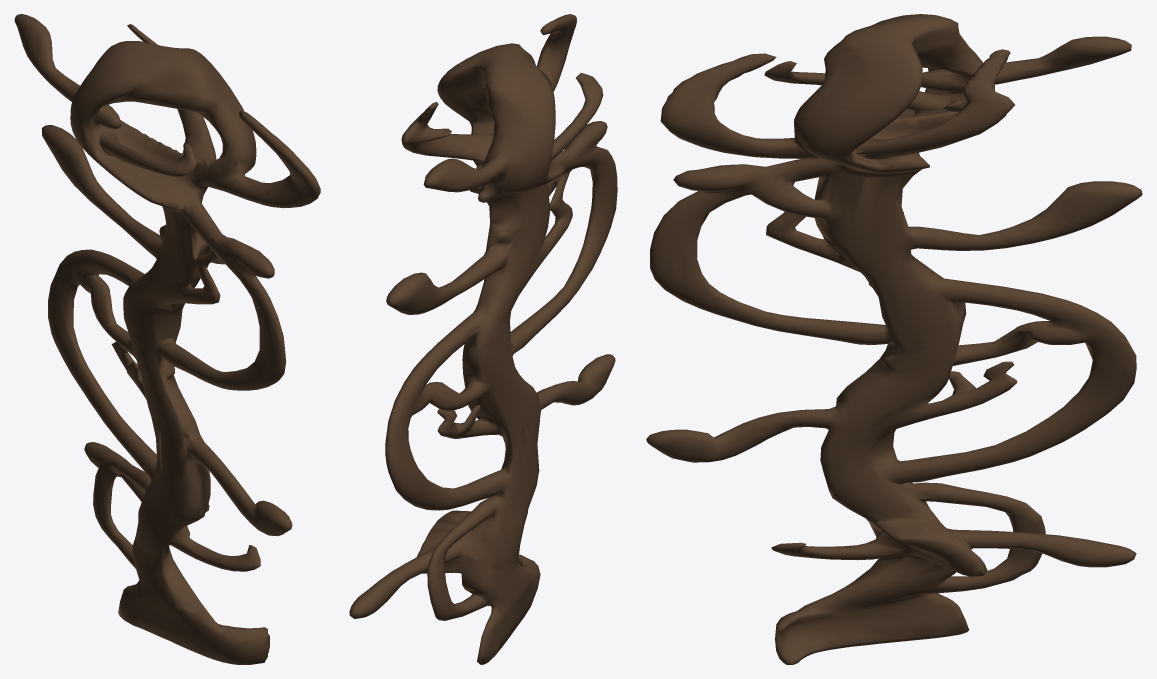
The model's file is ShadowKey_Branch.fbx.
3 renders of one model, left to right at view 1: azimuth 30°, elevation 25°; view 2: azimuth 150°, elevation 25°; view 3: azimuth 270°, elevation 25°, orthographic. The views are drawn at different scales.
Parts seen in each view (by area): view 1: ShadowKey; view 2: ShadowKey; view 3: ShadowKey.
Part boxes in pixels (x1=…): ShadowKey: x1=14, y1=14, x2=320, y2=664; ShadowKey: x1=349, y1=14, x2=617, y2=664; ShadowKey: x1=646, y1=14, x2=1142, y2=664.
Size of the model in its own units: 0.9807 by 4.2 by 3.05.
